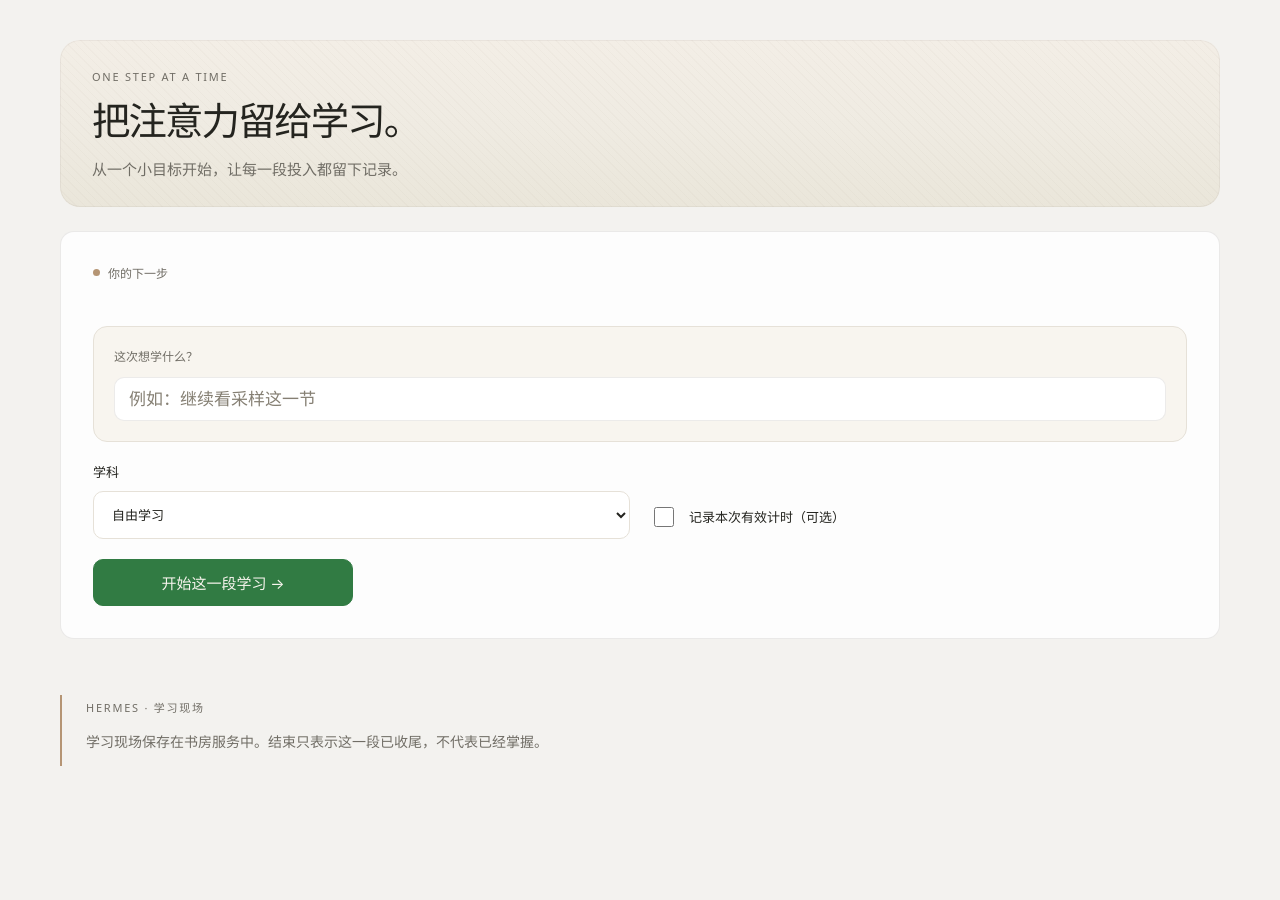
Test: learning scene › keeps the draft and reuses the same command id after an ambiguous network failure
The image size is (1280, 900).
Type "QA_TEST_复习函数" into the field labelled "这次想学什么？".
click(640, 399); type("QA_TEST_复习函数")  # box 114,377 -> 1166,421
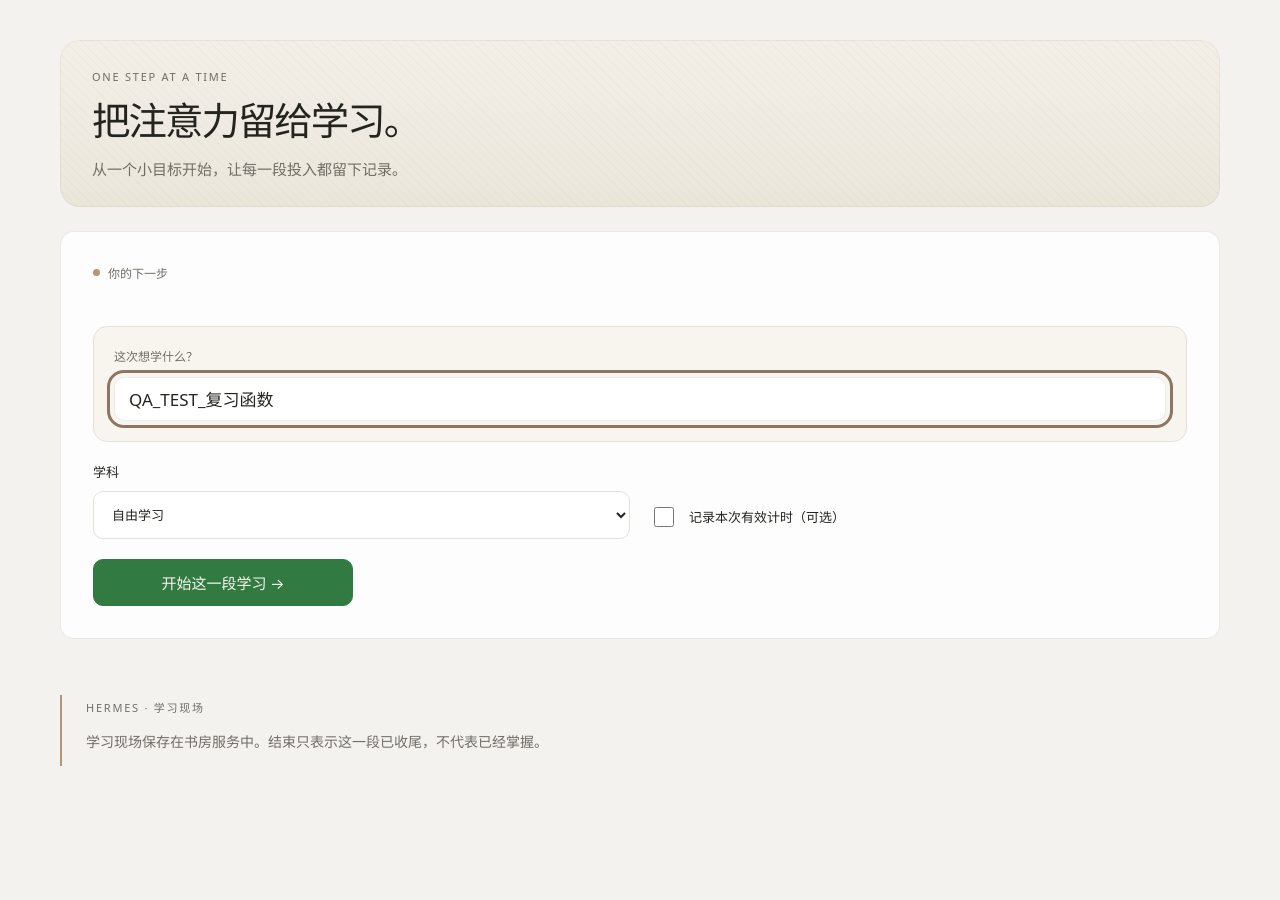
Click the button "开始这一段学习 →".
click(223, 582)  # box 93,559 -> 353,606
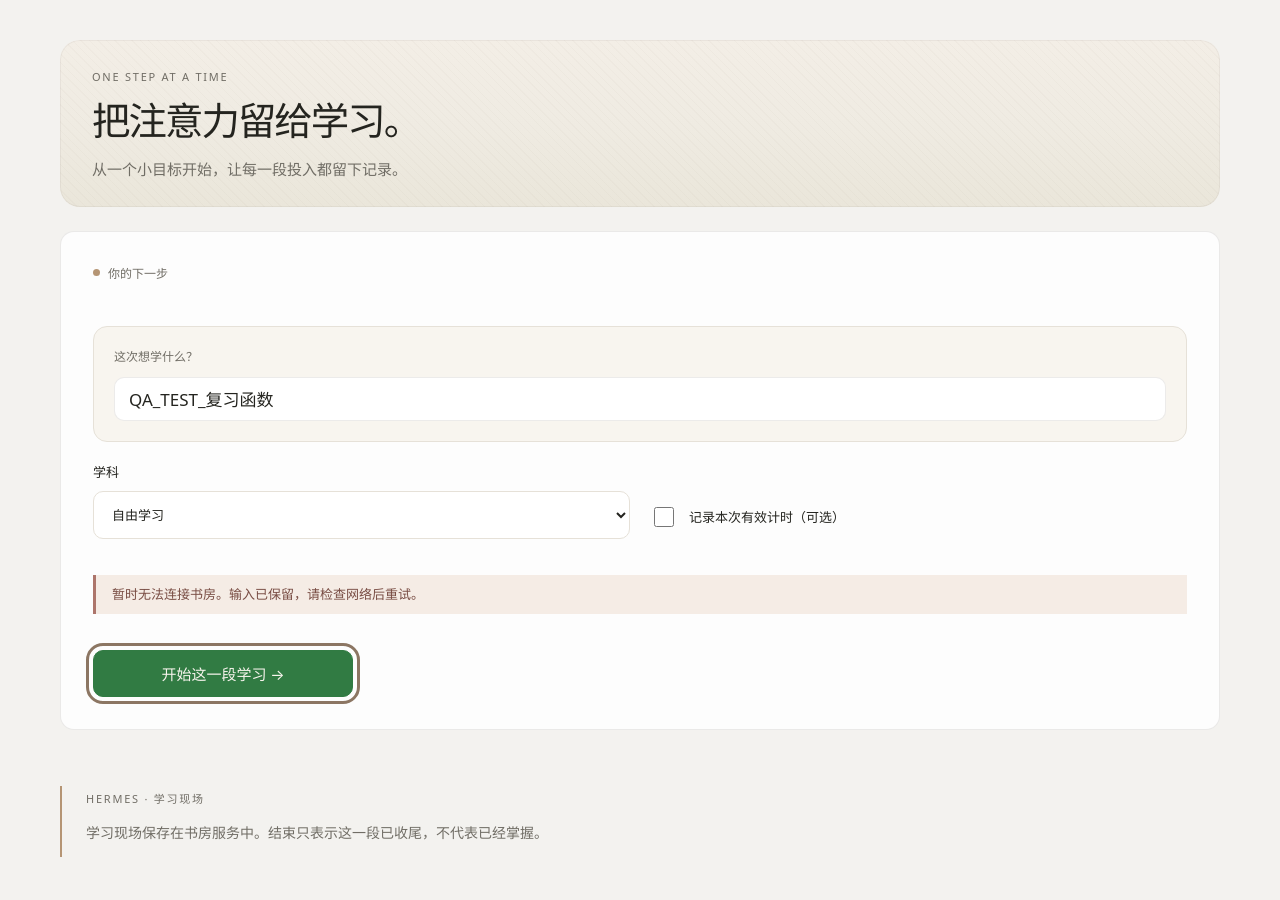
Now the message "暂时无法连接书房。输入已保留，请检查网络后重试。" is shown, box 93,575 -> 1187,614
Click the button "开始这一段学习 →".
click(223, 674)  # box 93,650 -> 353,697
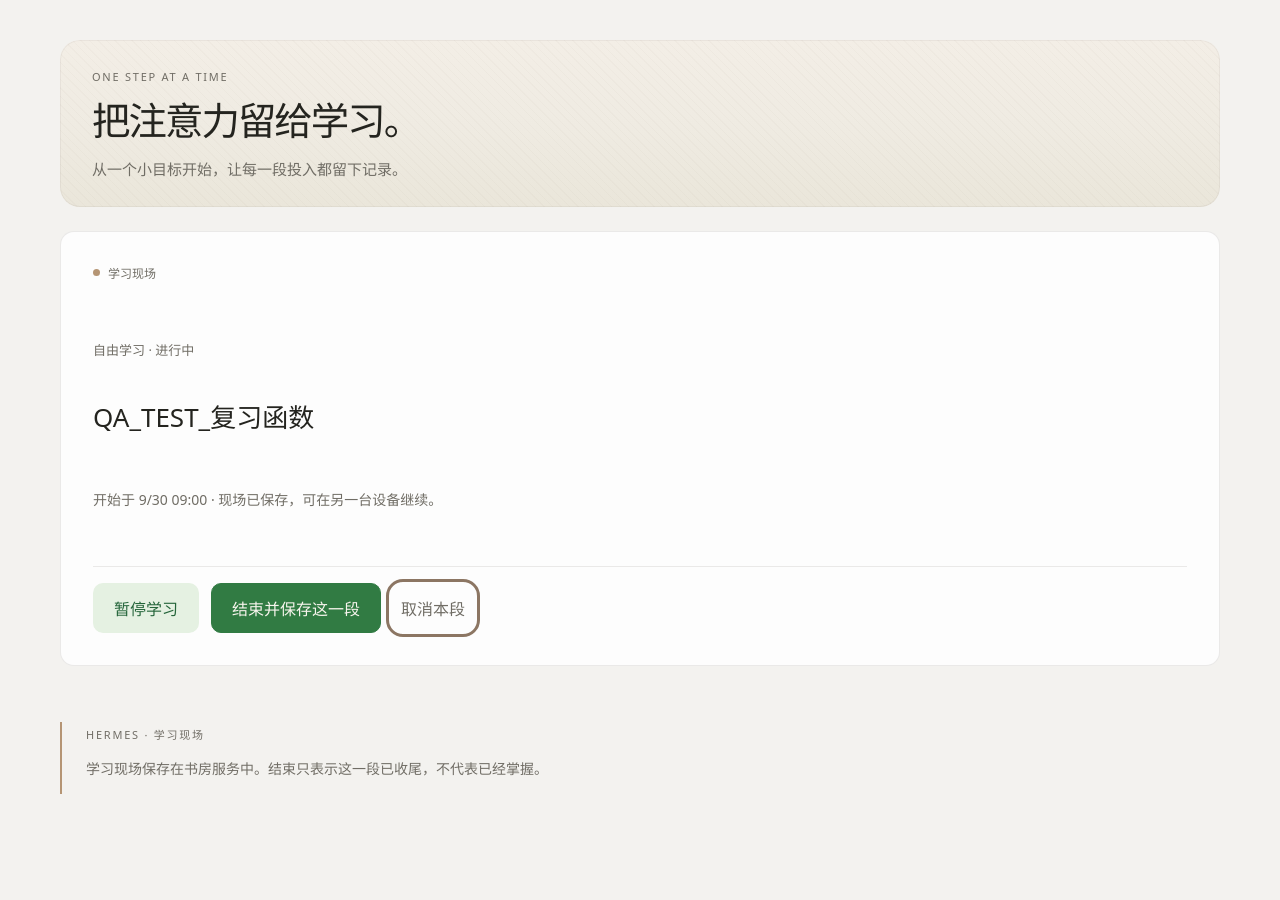
Now the button "暂停学习" is shown, box 93,583 -> 199,633
